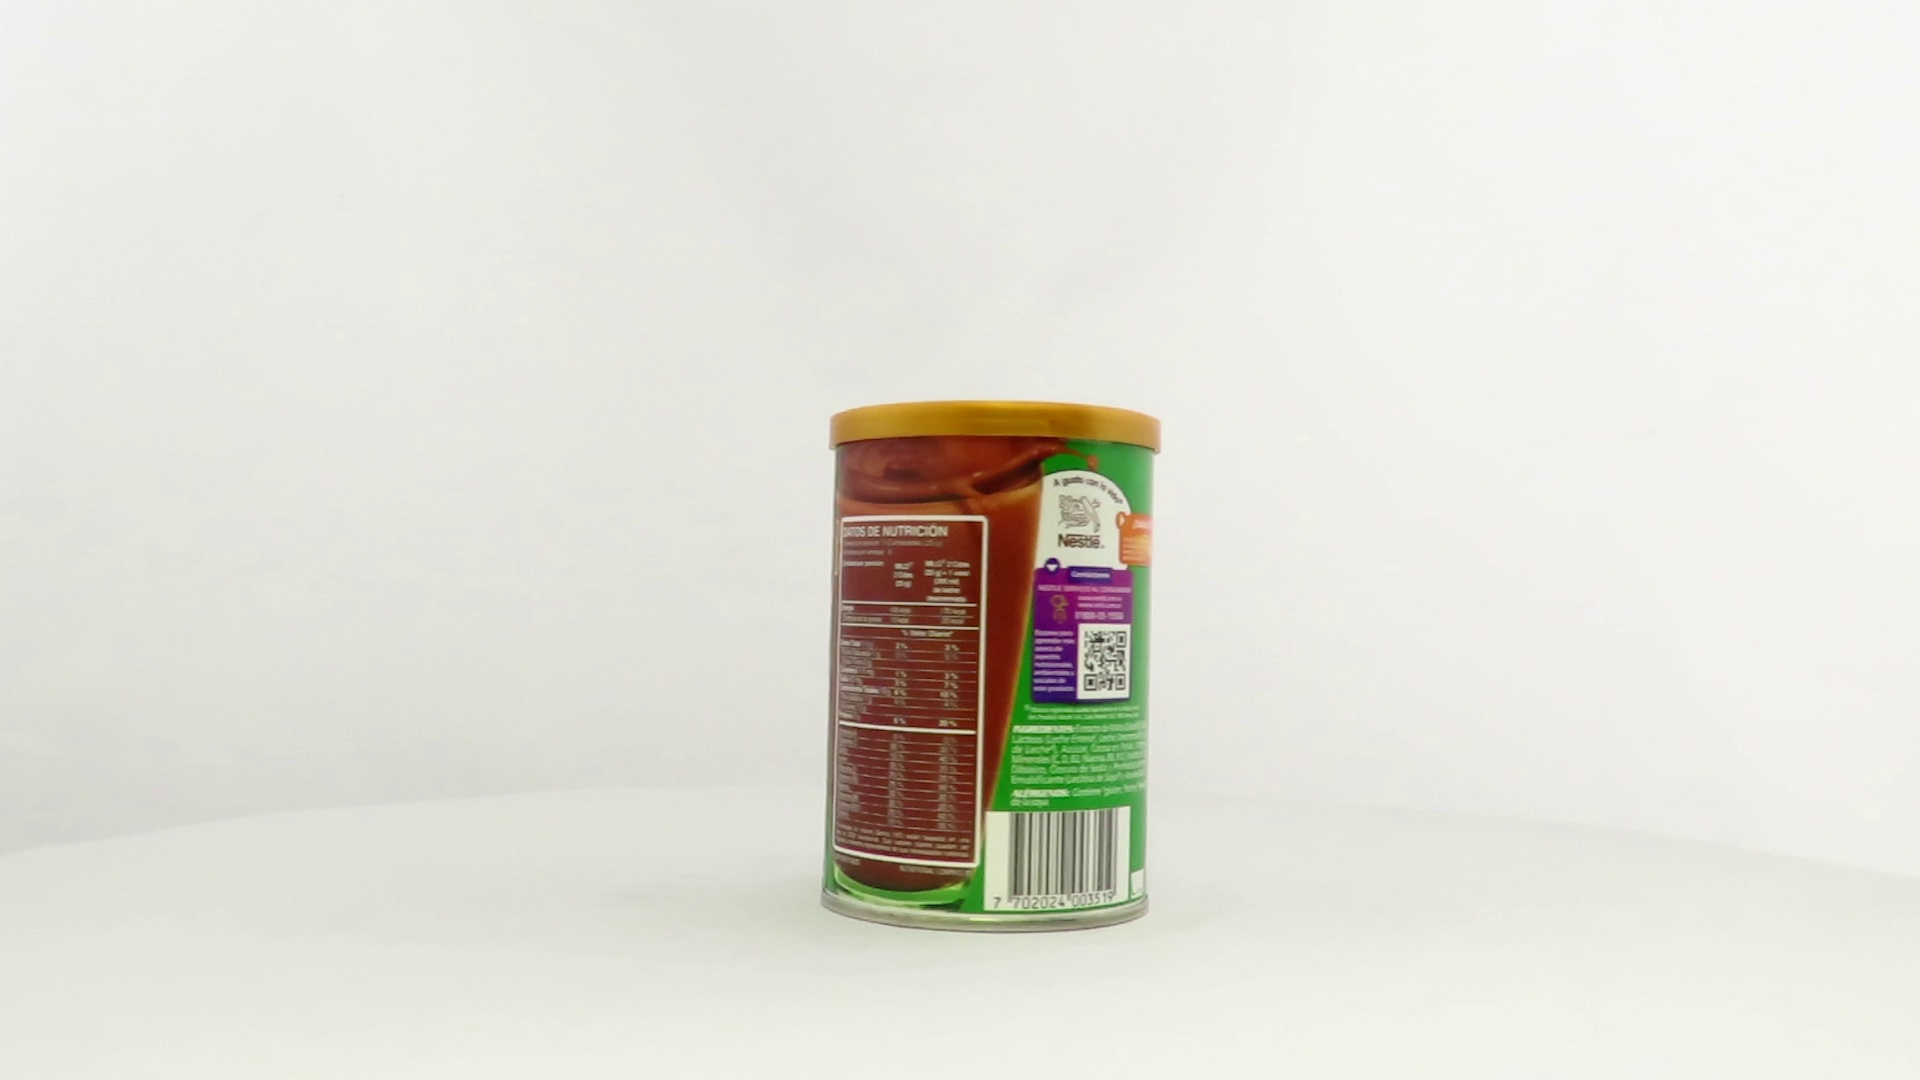COL0170203LAT20000: (815, 396, 1168, 940)
